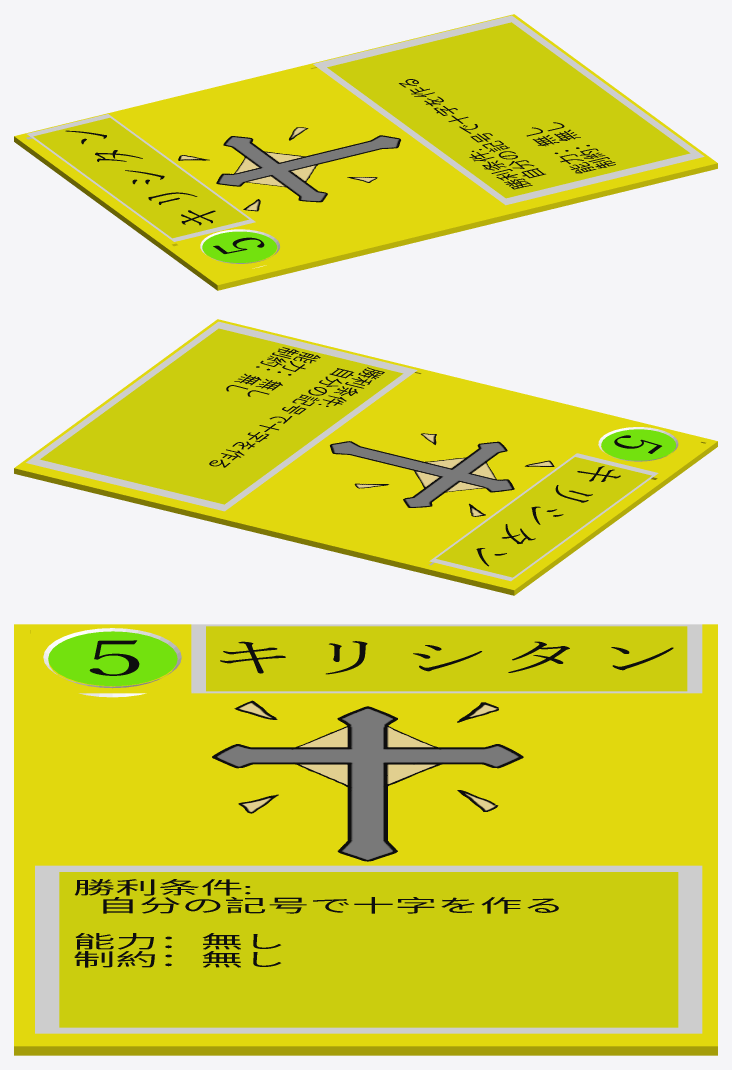
The model's file is キリシタン黄.fbx.
3 views of the same model, one above another, from view 1: azimuth 30°, elevation 25°; view 2: azimuth 150°, elevation 25°; view 3: azimuth 270°, elevation 25° (orthographic). The views are drawn at different scales.
Visible parts, largest first — view 1: カード本体.001, 説明欄, 名前欄, 平面.001, 説明文, 円, 平面, 名前; view 2: カード本体.001, 説明欄, 名前欄, 平面.001, 説明文, 円, 平面, 名前; view 3: カード本体.001, 説明欄, 名前欄, 平面.001, 説明文, 平面, 円, 名前, コスト蘭.
Boxes of the visible parts, x1,y1,x2,y2 form: カード本体.001: (14,14,717,290); 説明欄: (313,15,704,205); 名前欄: (27,114,255,241); 平面.001: (178,127,400,211); 説明文: (399,79,615,189); 円: (202,231,276,262); 平面: (174,222,302,275); 名前: (65,130,215,225); カード本体.001: (14,319,717,595); 説明欄: (26,321,417,511); 名前欄: (429,453,658,581); 平面.001: (330,433,554,516); 説明文: (209,347,384,467); 円: (601,429,675,460); 平面: (577,419,704,472); 名前: (476,466,620,566); カード本体.001: (14,624,717,1055); 説明欄: (35,865,702,1033); 名前欄: (191,624,702,693); 平面.001: (212,700,523,861); 説明文: (74,879,558,967); 平面: (30,624,191,693); 円: (48,631,177,686); 名前: (220,641,673,674); コスト蘭: (43,628,181,697).
Size of the model in its own units: 281 by 6.07 by 198.
